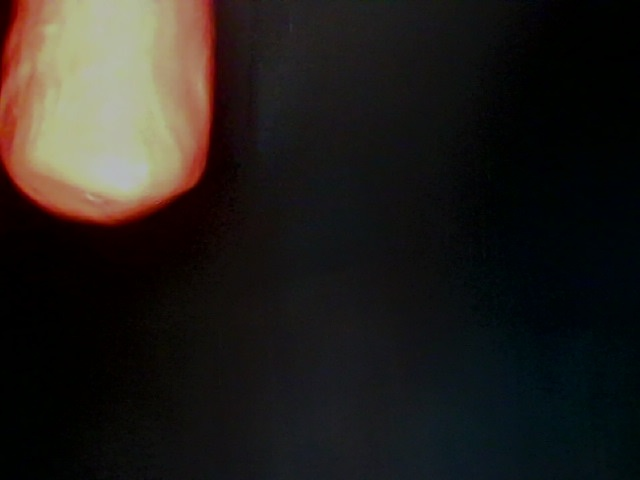YHLJ: (523, 126, 623, 208)
